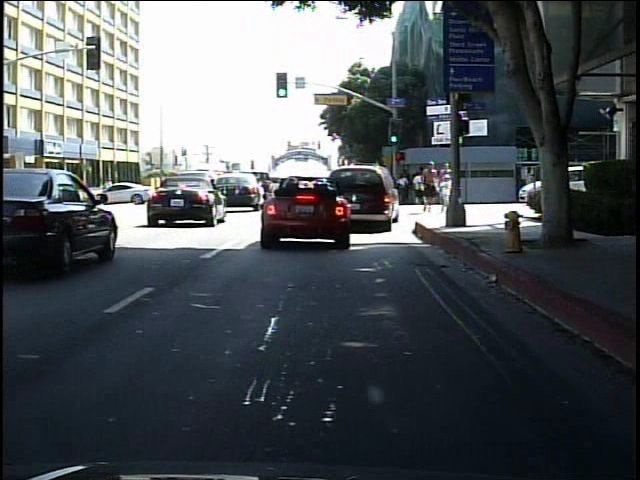person: (420, 159, 441, 216), (100, 176, 119, 204), (435, 174, 450, 208)
